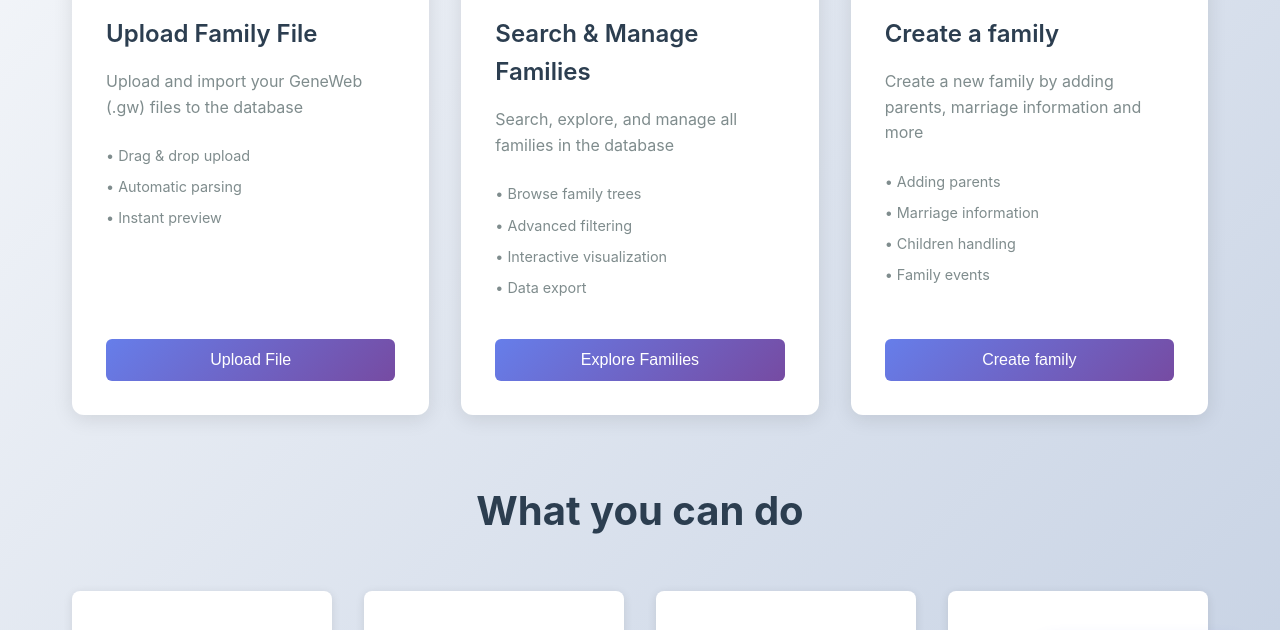
Scenario: Welcome View - E2E Tests › Navigation from Homepage › should navigate to manage page when clicking Explore Families
(page scrolled)
Click the button "Explore Families". click: (640, 360)
box: [495,339,784,381]
(page scrolled)
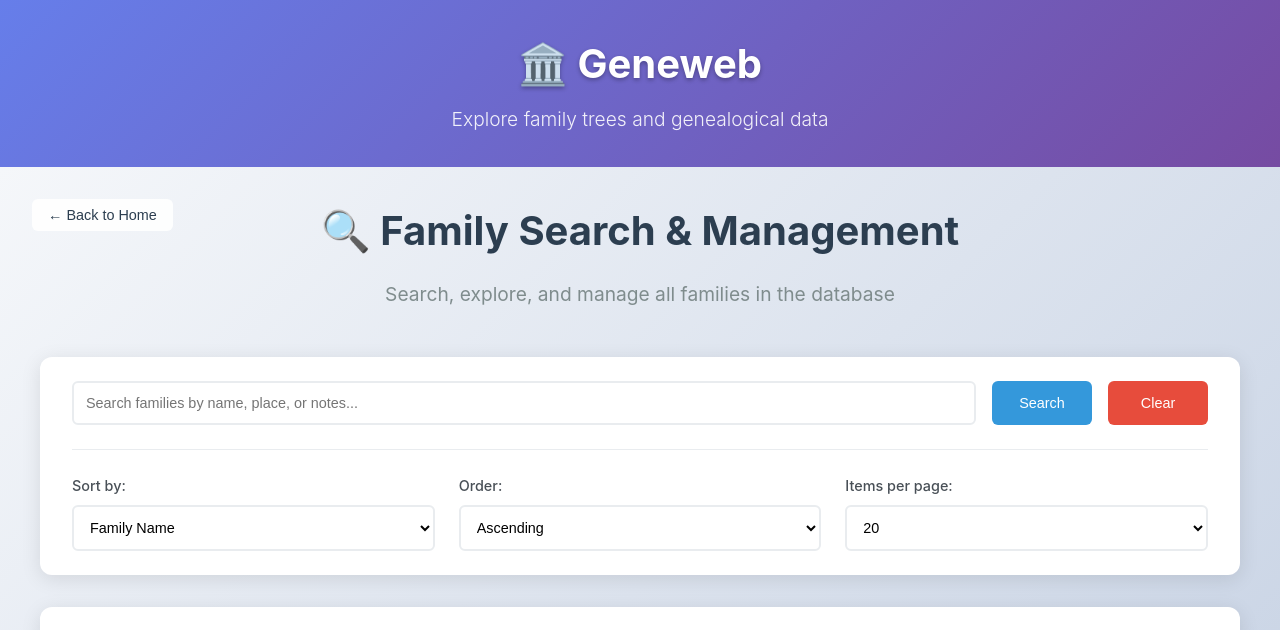
Result: the heading "🔍 Family Search & Management" is shown at [321,206,959,255]
